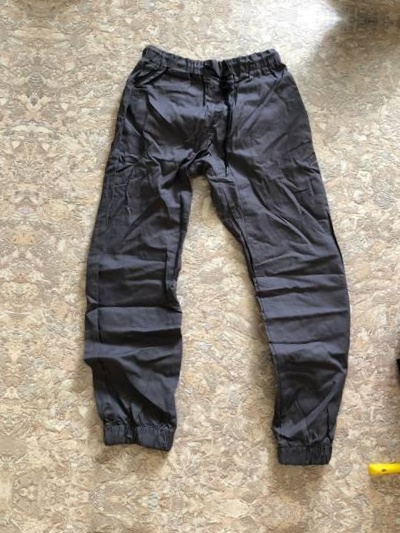Pants: (44, 33, 400, 474), (0, 2, 2, 443)
